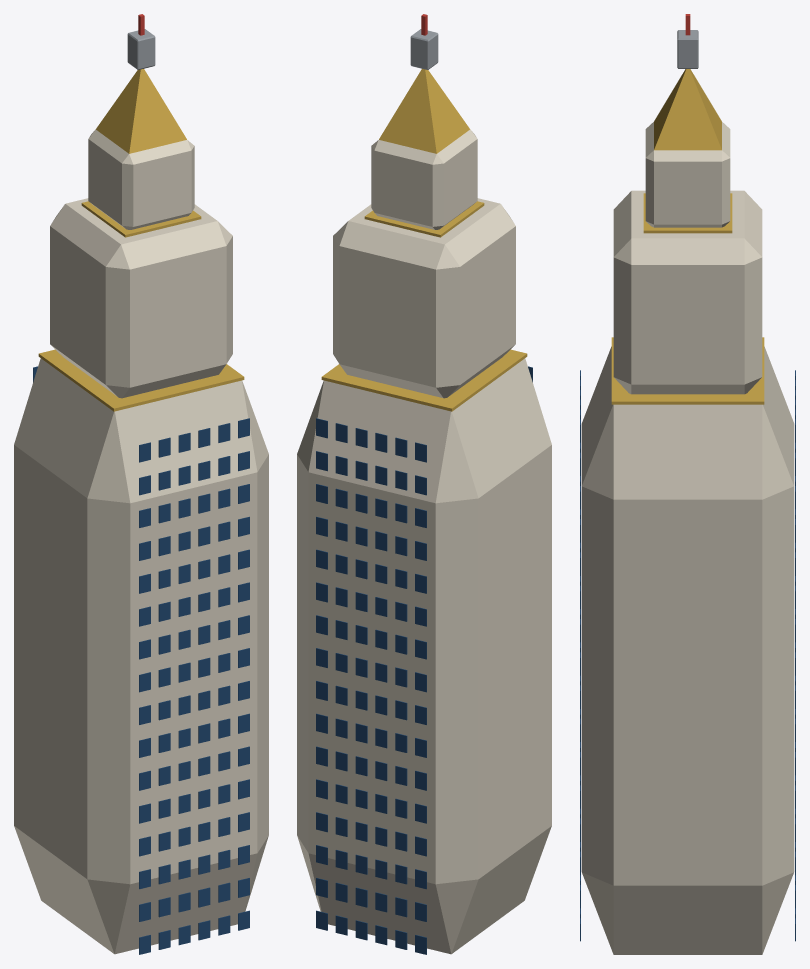
File: tower_deco_h90.glb
3 renders of one model, left to right at view 1: azimuth 30°, elevation 25°; view 2: azimuth 150°, elevation 25°; view 3: azimuth 270°, elevation 25°, orthographic.
Parts seen in each view (by area): view 1: t1, t2, t3, pyr, decoband, mast, decoband.001; view 2: t1, t2, t3, pyr, decoband, mast, decoband.001; view 3: t1, t2, t3, pyr, decoband, decoband.001, mast.
Part boxes in pixels (x1,y1,x2,y2): t1: [14, 358, 268, 954]; t2: [50, 198, 232, 398]; t3: [88, 129, 194, 229]; pyr: [95, 69, 186, 153]; decoband: [38, 349, 244, 411]; mast: [127, 29, 155, 69]; decoband.001: [81, 201, 201, 237]; t1: [297, 358, 551, 954]; t2: [333, 198, 515, 398]; t3: [371, 129, 477, 229]; pyr: [379, 69, 470, 153]; decoband: [321, 349, 527, 411]; mast: [410, 29, 438, 69]; decoband.001: [364, 201, 484, 237]; t1: [581, 346, 794, 954]; t2: [613, 190, 762, 394]; t3: [645, 122, 730, 227]; pyr: [654, 69, 721, 150]; decoband: [611, 337, 764, 404]; decoband.001: [643, 193, 732, 233]; mast: [677, 30, 698, 68].
Size of the model in its own units: 22 by 104 by 22.34.
